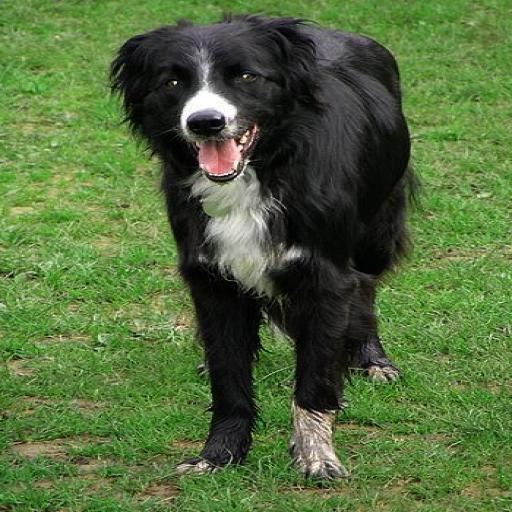dog_face: (115, 19, 302, 176)
